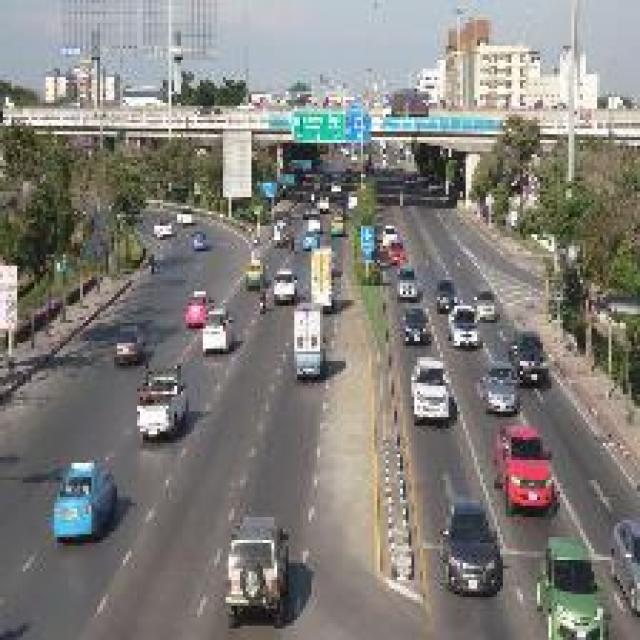other: (491, 414, 569, 508), (176, 284, 209, 334)
